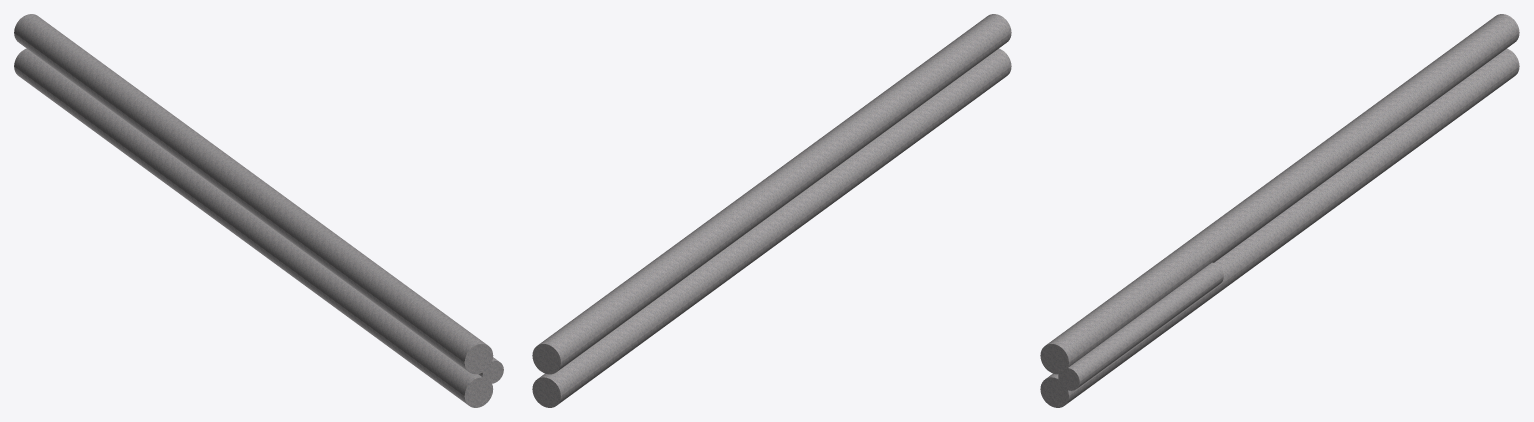
3 renders of one model, left to right at view 1: azimuth 30°, elevation 25°; view 2: azimuth 150°, elevation 25°; view 3: azimuth 330°, elevation 25°, orthographic.
Visible parts, largest first — view 1: 0_0_2_1_2_3_3_2_2; view 2: 0_0_2_1_2_3_3_2_2; view 3: 0_0_2_1_2_3_3_2_2.
Part boxes in pixels (box(x1,y1,x2,y2)): 0_0_2_1_2_3_3_2_2: box(14, 14, 503, 407); 0_0_2_1_2_3_3_2_2: box(532, 14, 1011, 407); 0_0_2_1_2_3_3_2_2: box(1040, 14, 1519, 407).
Bounding box in the file's own units: 1.1 × 1.7 × 21.9.
Materials: 3 (3 with a texture image).
